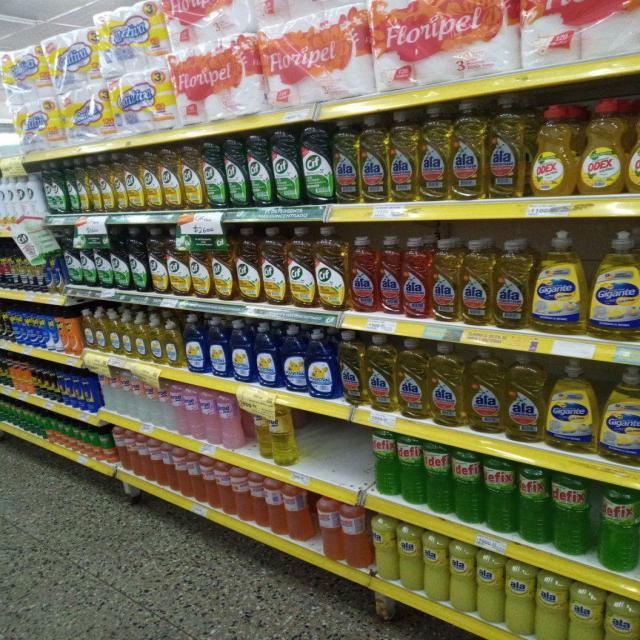ala_conc_amarillo: (488, 94, 528, 199), (505, 352, 545, 443), (452, 99, 486, 200), (494, 238, 530, 330), (466, 348, 504, 434), (429, 341, 464, 427), (420, 104, 450, 202), (389, 109, 418, 202), (462, 238, 492, 326), (360, 114, 388, 204), (431, 237, 460, 322), (397, 337, 427, 419), (366, 333, 396, 412), (334, 118, 359, 204), (339, 330, 365, 406)
ala_conc_rojo: (402, 236, 430, 320), (349, 235, 377, 314), (378, 236, 401, 316)
ala_crem_amarillo: (505, 560, 534, 636), (536, 572, 567, 640), (476, 550, 504, 624), (568, 583, 602, 640), (450, 542, 474, 614), (423, 532, 447, 602), (603, 597, 640, 640), (398, 525, 422, 591)
cif_conc_bot_amarilla: (316, 226, 348, 311), (288, 226, 314, 308), (260, 226, 286, 306), (236, 226, 260, 304), (212, 227, 235, 301), (168, 226, 189, 297), (190, 228, 211, 299), (182, 145, 202, 211), (149, 226, 167, 295), (161, 147, 180, 211), (144, 150, 160, 212), (126, 152, 142, 212), (101, 156, 113, 213), (114, 154, 125, 212), (89, 157, 100, 213), (78, 158, 89, 214)
cif_conc_botella_verde: (302, 124, 332, 205), (272, 129, 300, 207), (248, 132, 271, 208), (202, 141, 225, 210), (226, 136, 247, 208), (129, 226, 147, 292), (111, 227, 128, 290), (95, 227, 111, 288), (66, 159, 80, 214)
gigante: (532, 230, 586, 334), (590, 229, 639, 341), (547, 358, 597, 452), (600, 364, 640, 465)
heroe: (220, 394, 244, 449), (184, 384, 202, 440), (202, 390, 220, 444), (142, 377, 159, 426)
magistral_con_amarillo: (166, 318, 183, 368), (149, 316, 165, 364), (134, 315, 148, 361), (95, 310, 108, 352), (109, 311, 121, 356), (122, 313, 134, 358)
magistral_con_azul: (307, 328, 337, 399), (281, 324, 306, 393), (255, 321, 280, 388), (230, 319, 253, 383), (185, 314, 207, 374), (208, 316, 229, 378)
odex: (578, 99, 625, 194), (530, 105, 575, 196), (627, 97, 640, 193)
vencedor: (341, 503, 369, 568), (284, 484, 314, 541), (316, 497, 342, 561), (172, 447, 197, 497), (265, 478, 286, 535), (232, 467, 252, 521), (214, 460, 234, 514), (186, 452, 206, 502), (149, 441, 171, 486), (202, 457, 220, 508), (250, 472, 266, 526)
